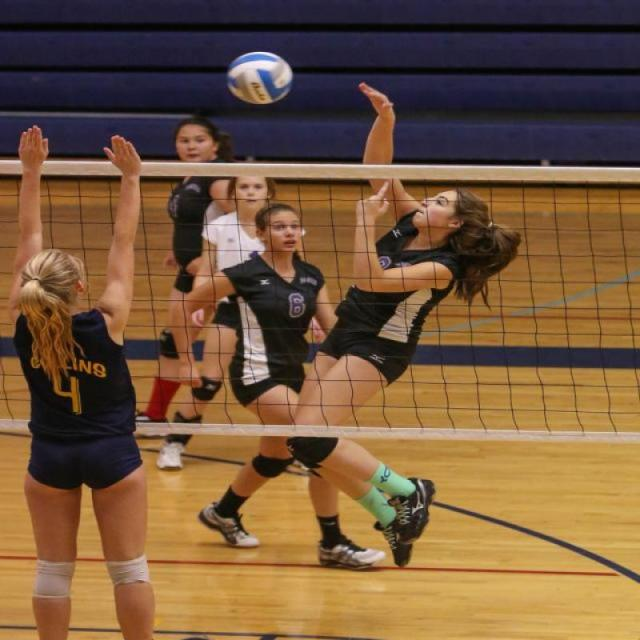volleyball: (221, 44, 297, 106)
